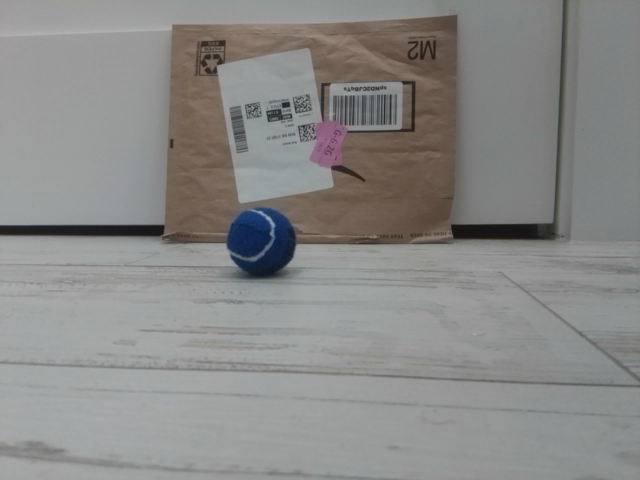blue-ball: (226, 205, 297, 277)
